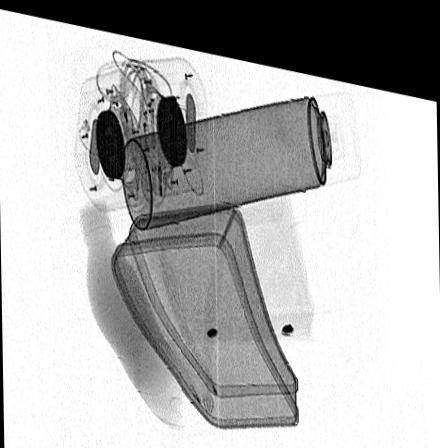Sprayer: (121, 75, 361, 222)
